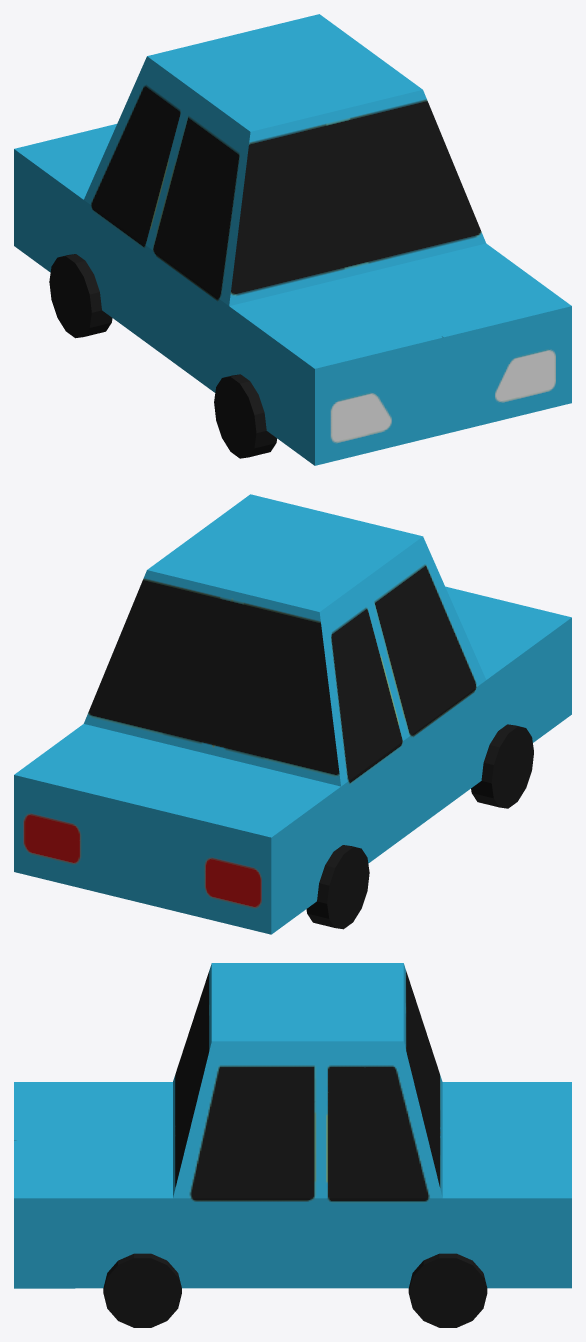
File: Car.fbx
3 renders of one model, top to bottom at view 1: azimuth 30°, elevation 25°; view 2: azimuth 150°, elevation 25°; view 3: azimuth 270°, elevation 25°, orthographic. The views are drawn at different scales.
Visible parts, largest first — view 1: Car; view 2: Car; view 3: Car.
Part boxes in pixels (x1,y1,x2,y2): Car: [14, 14, 571, 465]; Car: [14, 494, 571, 934]; Car: [14, 963, 571, 1327].
Size of the model in its own units: 196 by 191 by 368.
